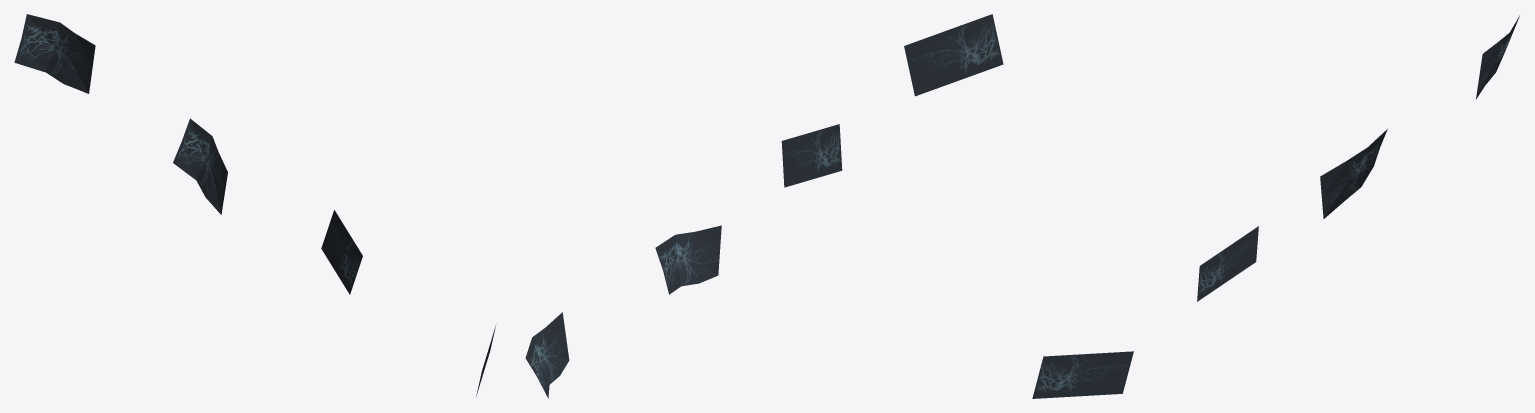
The model's file is Area_13_8.fbx.
3 renders of one model, left to right at view 1: azimuth 30°, elevation 25°; view 2: azimuth 150°, elevation 25°; view 3: azimuth 330°, elevation 25°, orthographic. The views are drawn at different scales.
Parts seen in each view (by area): view 1: Area_13_8; view 2: Area_13_8; view 3: Area_13_8.
Boxes of the visible parts, x1,y1,x2,y2 form: Area_13_8: (14, 14, 495, 396); Area_13_8: (525, 14, 1003, 398); Area_13_8: (1032, 15, 1519, 398).
Size of the model in its own units: 399 by 389 by 5115.
1 material, 1 textured.
